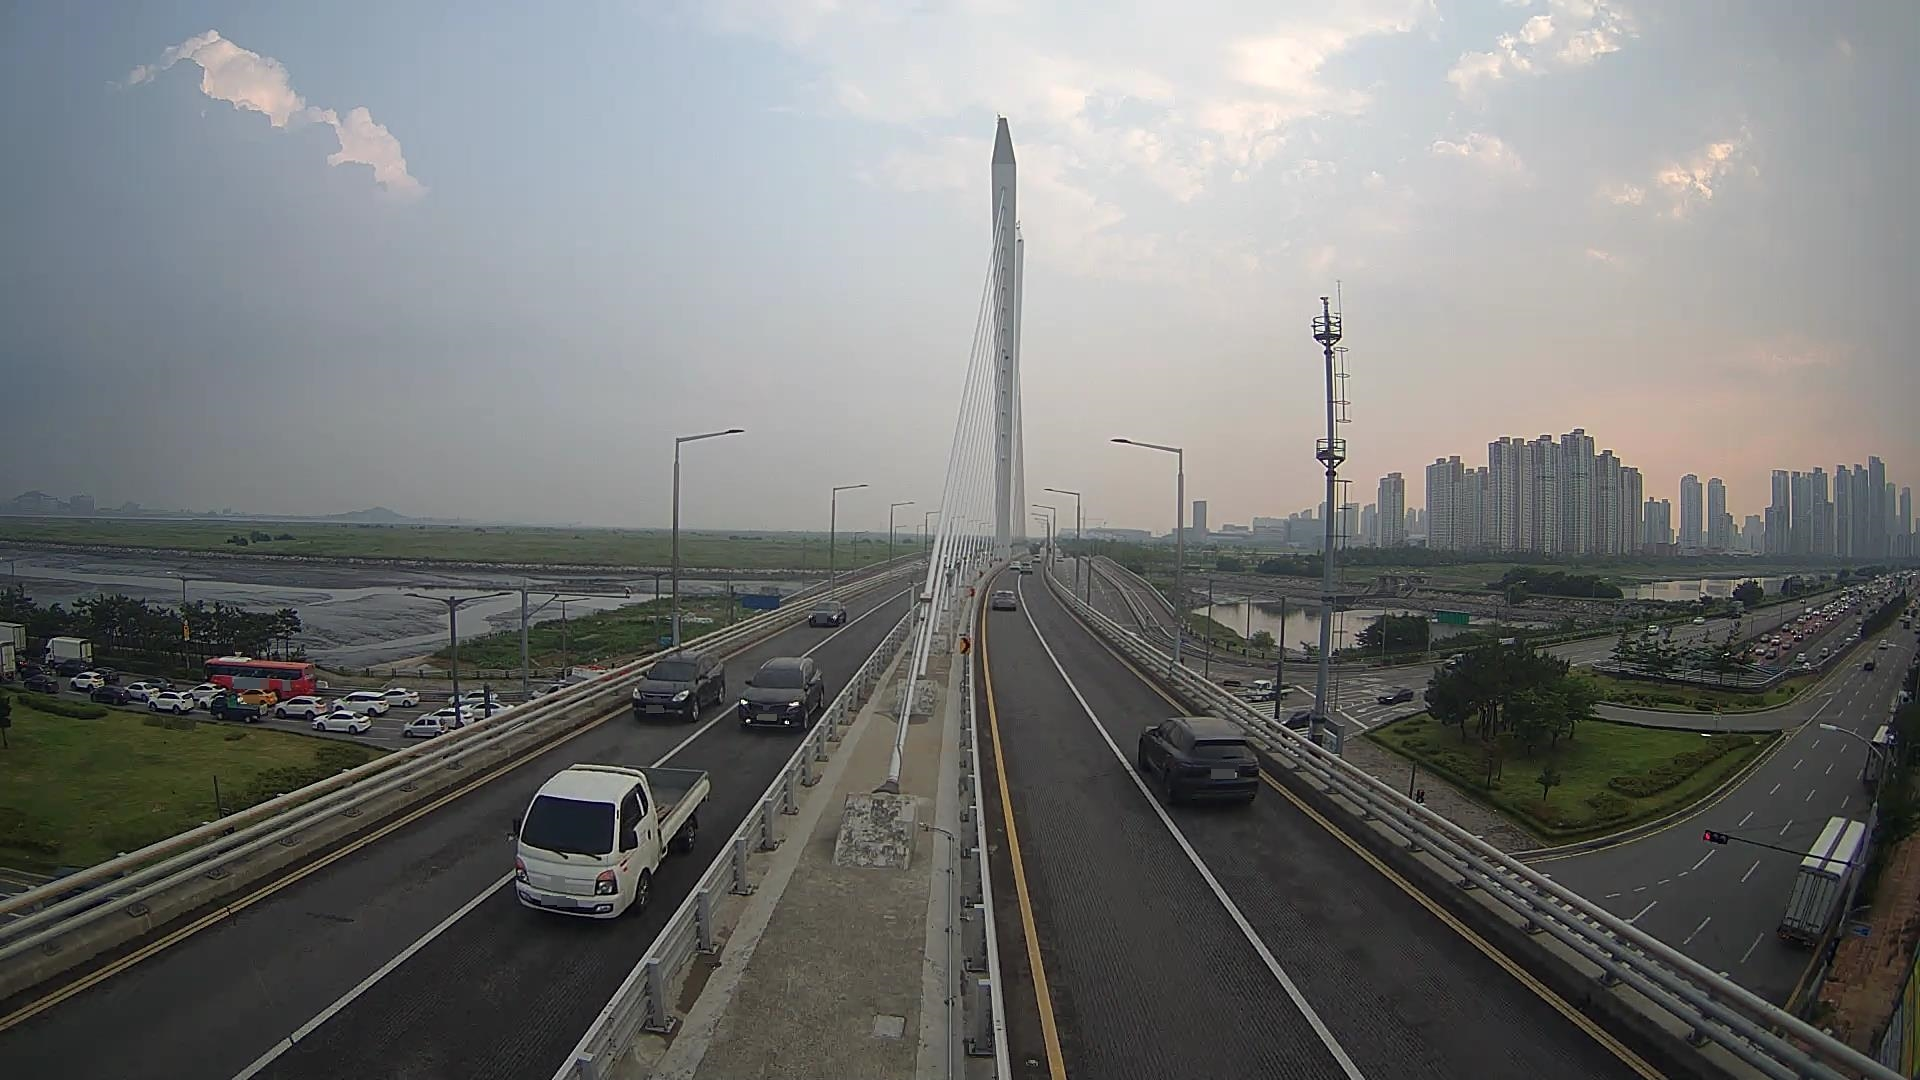정상차량: (506, 762, 714, 921)
